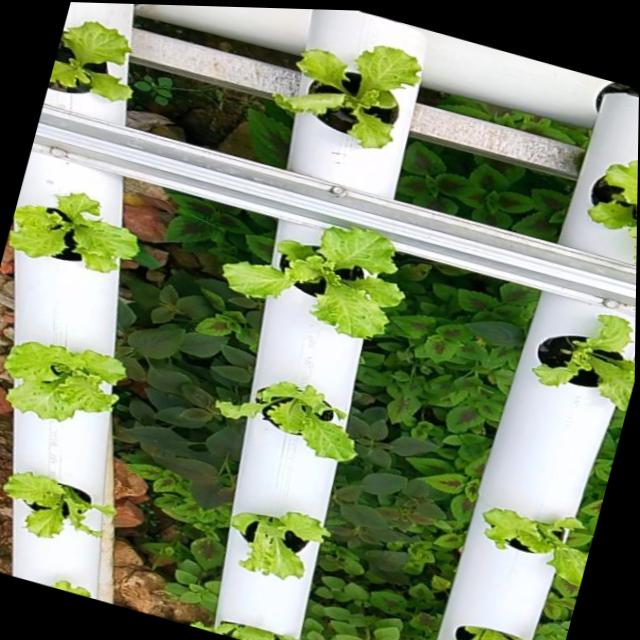Baby: (217, 225, 396, 334), (266, 46, 412, 148), (522, 310, 635, 412), (210, 377, 350, 456), (6, 191, 134, 270), (0, 338, 122, 417), (474, 502, 589, 584), (0, 467, 112, 532), (225, 506, 323, 573), (577, 160, 638, 266), (48, 22, 126, 101), (412, 619, 560, 640)
